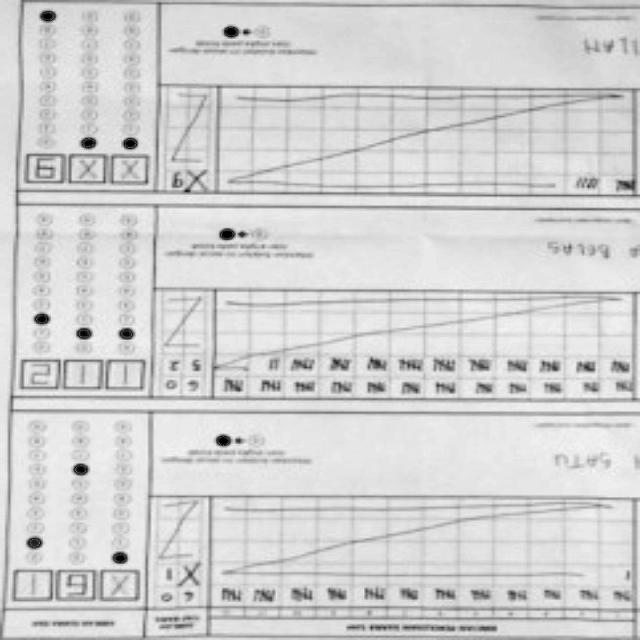Suara: (26, 154, 158, 196), (13, 569, 144, 605), (21, 357, 146, 391)
